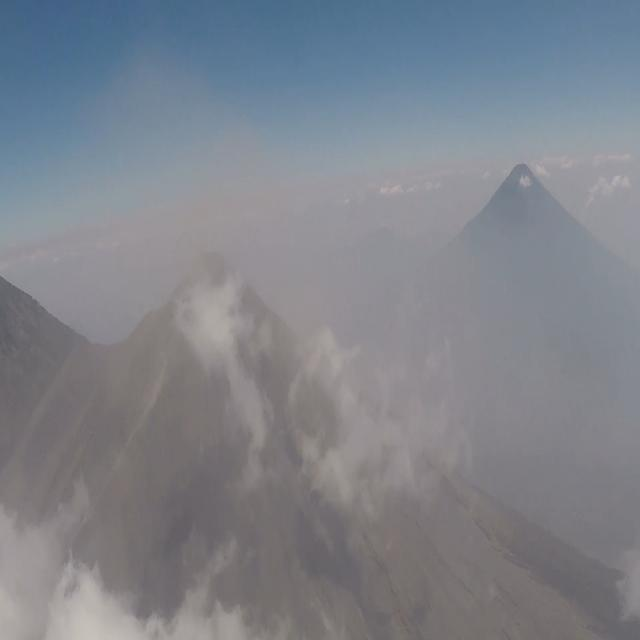Summit: (115, 240, 331, 386)
